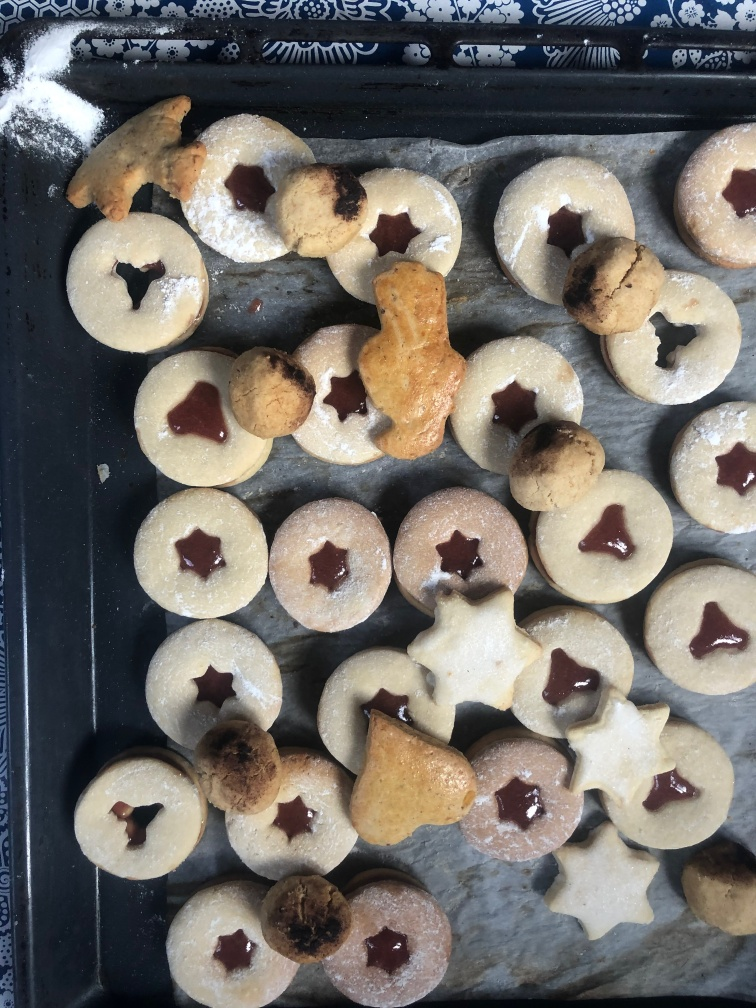christmas shortbread with jam: (493, 146, 637, 304), (184, 111, 313, 257), (66, 216, 210, 346), (132, 489, 266, 618), (67, 752, 204, 878), (334, 162, 458, 296), (271, 499, 391, 636), (134, 354, 254, 490), (395, 496, 533, 600), (654, 560, 756, 695), (473, 741, 583, 856), (534, 607, 634, 732), (162, 888, 271, 1001), (467, 334, 594, 427), (544, 510, 677, 598), (143, 621, 287, 700), (673, 401, 756, 536), (362, 884, 452, 1008), (678, 123, 756, 264), (662, 279, 740, 402), (279, 746, 351, 866), (316, 649, 428, 723), (671, 722, 731, 853), (316, 321, 368, 468)
heart: (346, 712, 473, 850)
lamb: (64, 94, 206, 217)
santa claus: (351, 255, 465, 461)
snowball: (566, 236, 660, 332), (272, 164, 369, 256), (193, 706, 277, 812), (223, 346, 316, 441), (258, 870, 351, 960), (512, 417, 600, 509), (684, 849, 755, 936)
